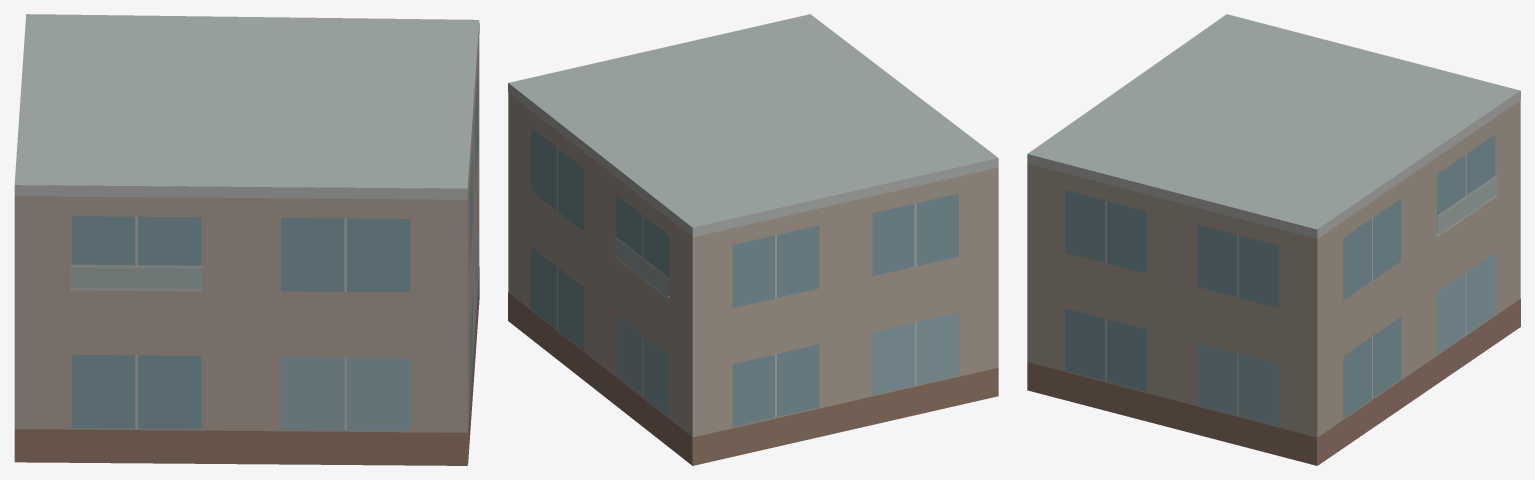
File: survey-upis-32848444.glb
The picture shows the model from 3 angles, left to right: view 1: azimuth 30°, elevation 25°; view 2: azimuth 150°, elevation 25°; view 3: azimuth 270°, elevation 25°; orthographic projection. The views are drawn at different scales.
Parts seen in each view (by area): view 1: survey-upis-32848444.tmp; view 2: survey-upis-32848444.tmp; view 3: survey-upis-32848444.tmp.
Part boxes in pixels (x1=…): survey-upis-32848444.tmp: x1=14, y1=14, x2=479, y2=465; survey-upis-32848444.tmp: x1=508, y1=14, x2=998, y2=465; survey-upis-32848444.tmp: x1=1027, y1=14, x2=1520, y2=465.
Size of the model in its own units: 11.94 by 6.1 by 11.55.
